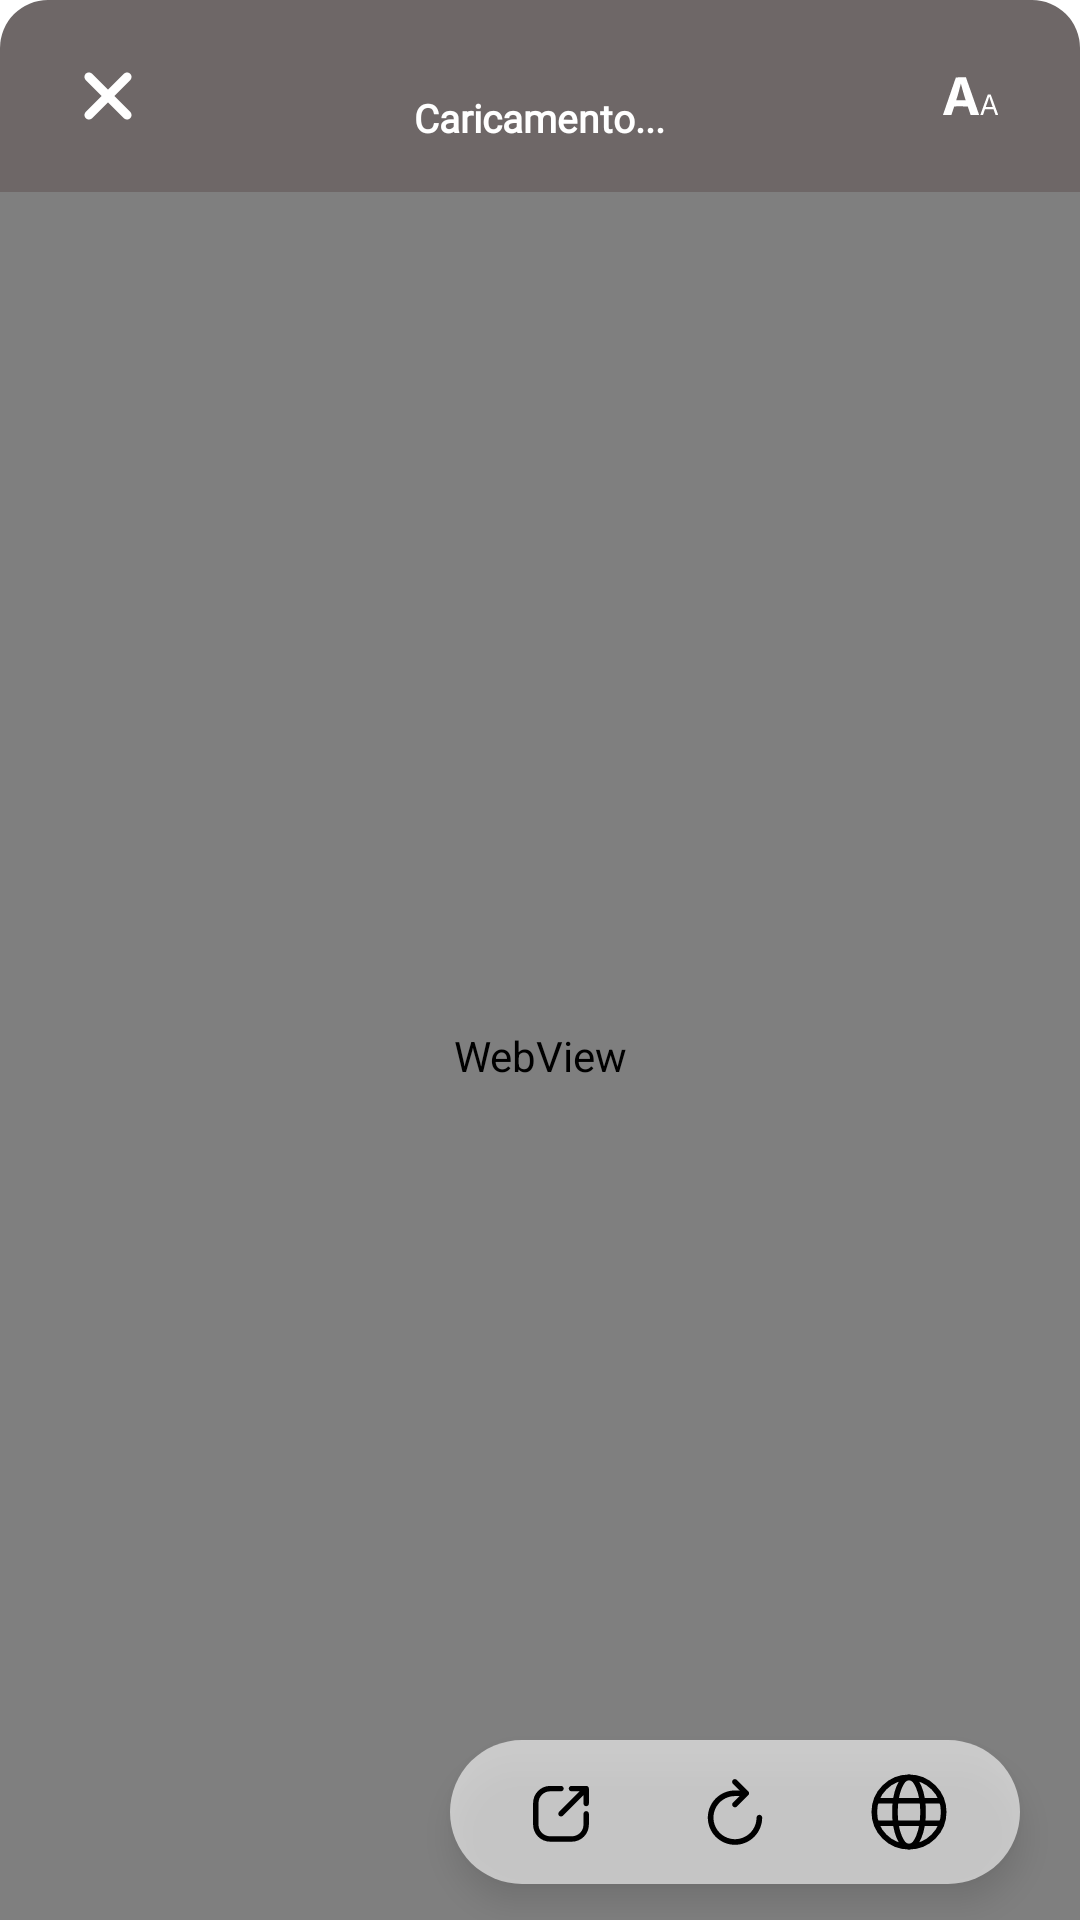

Where icons sit on this 1080*1920 app screen, as (x1, y1, x2, y2):
close browser: (84, 72, 132, 120)
